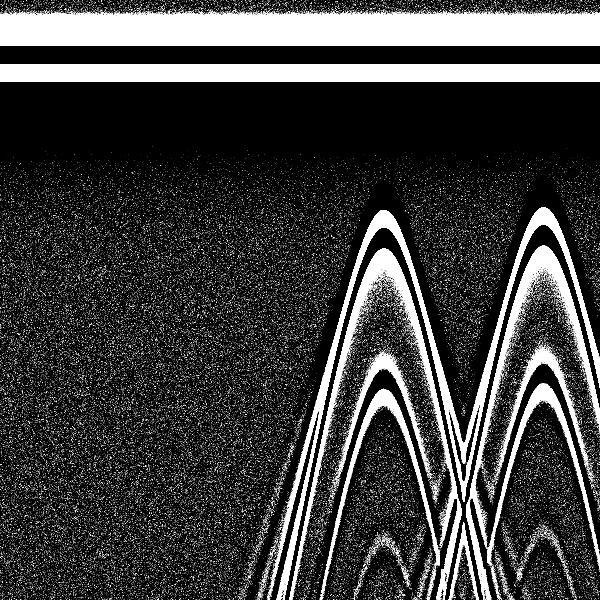pipe: (328, 5, 437, 307), (491, 5, 596, 299)
